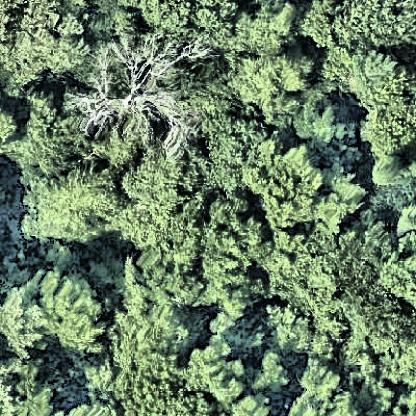tree-top: (78, 40, 214, 159), (252, 138, 364, 235), (22, 163, 126, 250), (200, 197, 274, 317), (347, 45, 416, 161), (334, 234, 407, 340), (38, 262, 117, 353), (6, 90, 79, 178), (124, 147, 181, 252), (200, 112, 265, 201), (237, 53, 308, 129), (313, 1, 415, 53), (12, 6, 87, 76), (111, 319, 171, 406), (128, 253, 211, 312), (183, 332, 248, 405), (142, 1, 243, 46), (231, 1, 302, 59), (289, 354, 355, 416), (1, 273, 47, 357), (13, 366, 76, 416), (299, 103, 352, 155), (366, 180, 416, 232), (246, 349, 298, 396), (381, 321, 416, 385), (86, 1, 139, 37), (352, 379, 395, 416)
